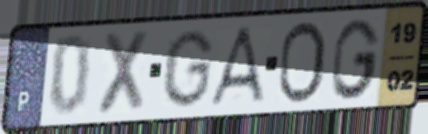0: (48, 32, 94, 119)
A: (206, 24, 268, 109)
G: (158, 28, 216, 110), (329, 16, 383, 102)
O: (275, 19, 328, 107)
X: (93, 27, 152, 118)
